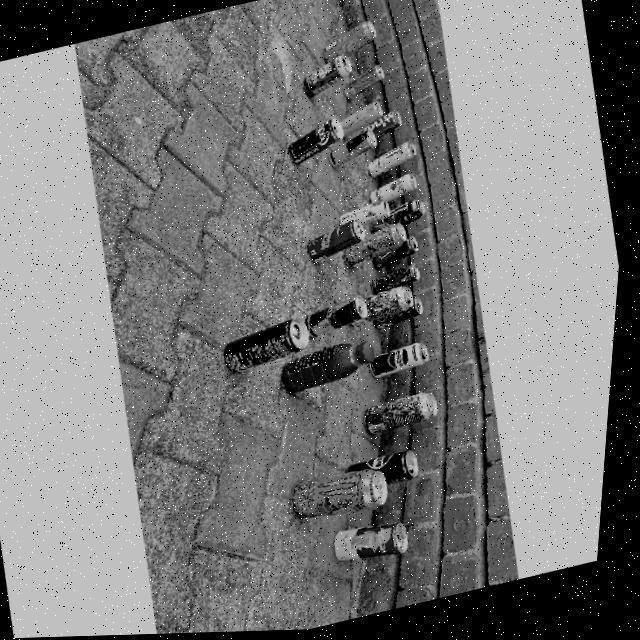Coca Cola - Marvel: (287, 116, 347, 165)
Coca Cola Plus: (370, 173, 423, 206)
Coolberg: (302, 56, 352, 95)
Hell Apple: (374, 266, 427, 293)
Hell Classic: (374, 309, 427, 330)
Monster Aussie Lemonade: (369, 393, 446, 437), (369, 287, 418, 322)
Monster LH44: (392, 199, 430, 227)
Monster Mango Loco: (293, 463, 399, 529), (345, 224, 410, 265), (320, 21, 379, 63)
Nescafe Classic Iced Latte: (337, 512, 422, 572)
Pepsi: (222, 315, 317, 373), (380, 449, 427, 489)
Pepsi Retro: (372, 342, 438, 380)
Prime - Shitass: (279, 338, 380, 394)
Redbull: (307, 296, 373, 337), (325, 135, 384, 167), (344, 67, 389, 101)
Redbull Summer Edition: (358, 202, 395, 229)
Redbull Yellow Edition: (305, 219, 368, 265), (339, 100, 385, 135)
Sprite: (374, 113, 405, 135)
Thums Up: (376, 247, 424, 269)
White Monster: (368, 140, 419, 178)
